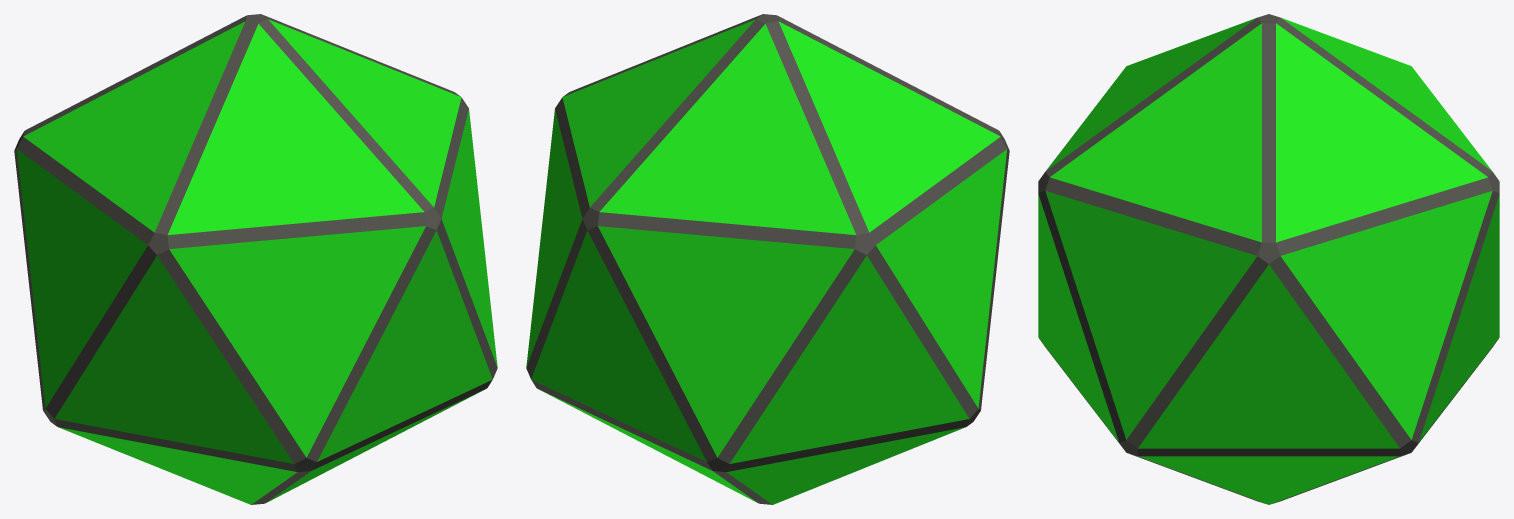
The model's file is Bonus_health.fbx.
3 views of the same model, side by side, from view 1: azimuth 30°, elevation 25°; view 2: azimuth 150°, elevation 25°; view 3: azimuth 270°, elevation 25° (orthographic).
Visible parts, largest first — view 1: Icosphere; view 2: Icosphere; view 3: Icosphere.
Part boxes in pixels (bbox=[...]): Icosphere: bbox=[14, 14, 497, 504]; Icosphere: bbox=[526, 14, 1009, 504]; Icosphere: bbox=[1038, 14, 1499, 504].
Size of the model in its own units: 193 by 211 by 183.
